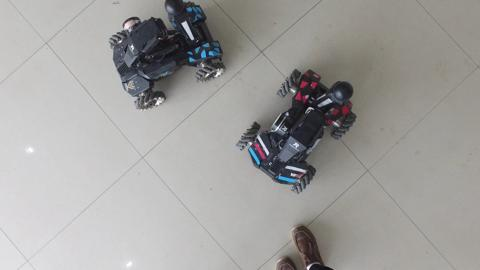chariot: (233, 65, 359, 198), (102, 1, 230, 117)
